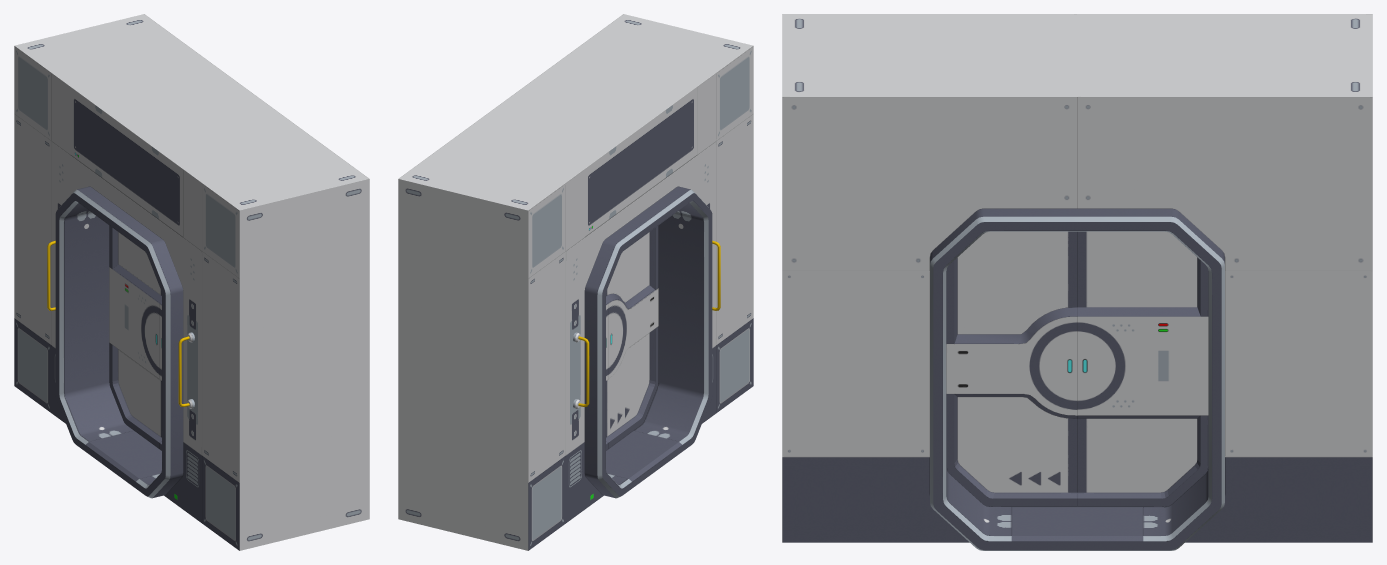
Rendered from Wall_Door_Simple_03.FBX.
The picture shows the model from 3 angles, left to right: view 1: azimuth 30°, elevation 25°; view 2: azimuth 150°, elevation 25°; view 3: azimuth 270°, elevation 25°; orthographic projection. The views are drawn at different scales.
Visible parts, largest first — view 1: Wall_Door_Simple_03, Door_Left; view 2: Wall_Door_Simple_03, Door_Right; view 3: Wall_Door_Simple_03, Door_Right, Door_Left.
Part boxes in pixels (x1,y1,x2,y2): Wall_Door_Simple_03: (14,14,369,550); Door_Left: (109,225,161,448); Wall_Door_Simple_03: (398,14,753,550); Door_Right: (606,225,658,448); Wall_Door_Simple_03: (782,14,1372,550); Door_Right: (946,231,1077,506); Door_Left: (1077,231,1208,506).
Size of the model in its own units: 2.5 by 5 by 6.
